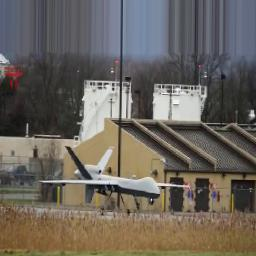reaper: (38, 146, 180, 210)
